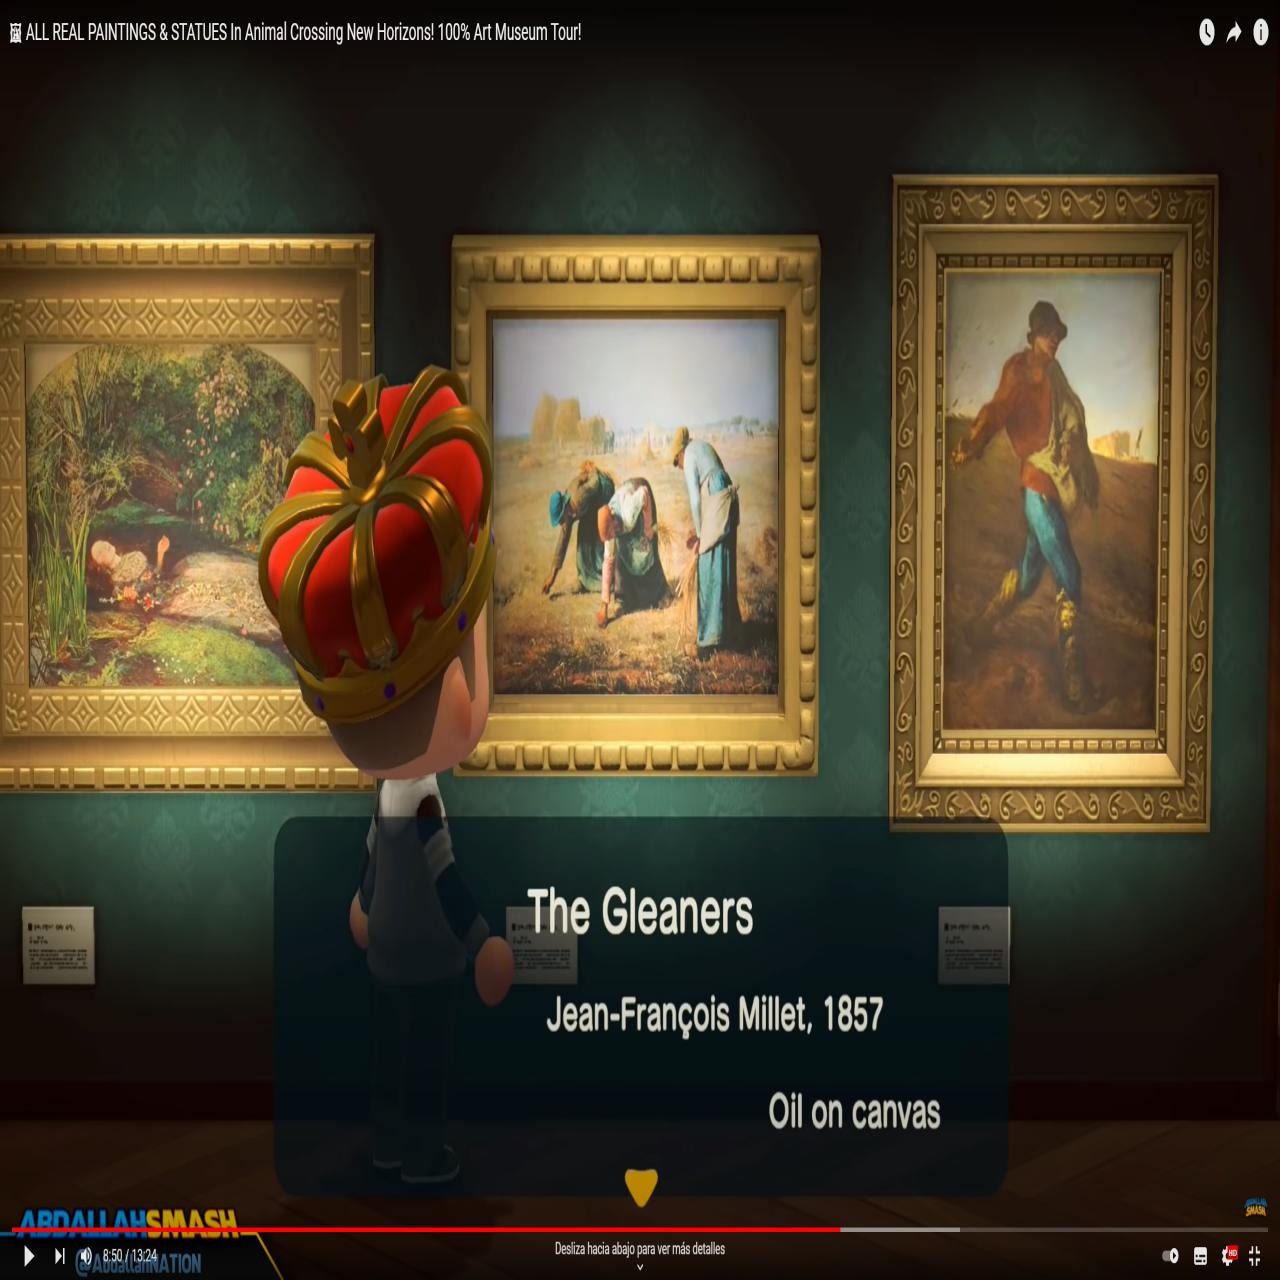Gleaners: (496, 321, 778, 697)
Ophelia: (29, 346, 314, 679)
Slower: (947, 274, 1157, 726)
